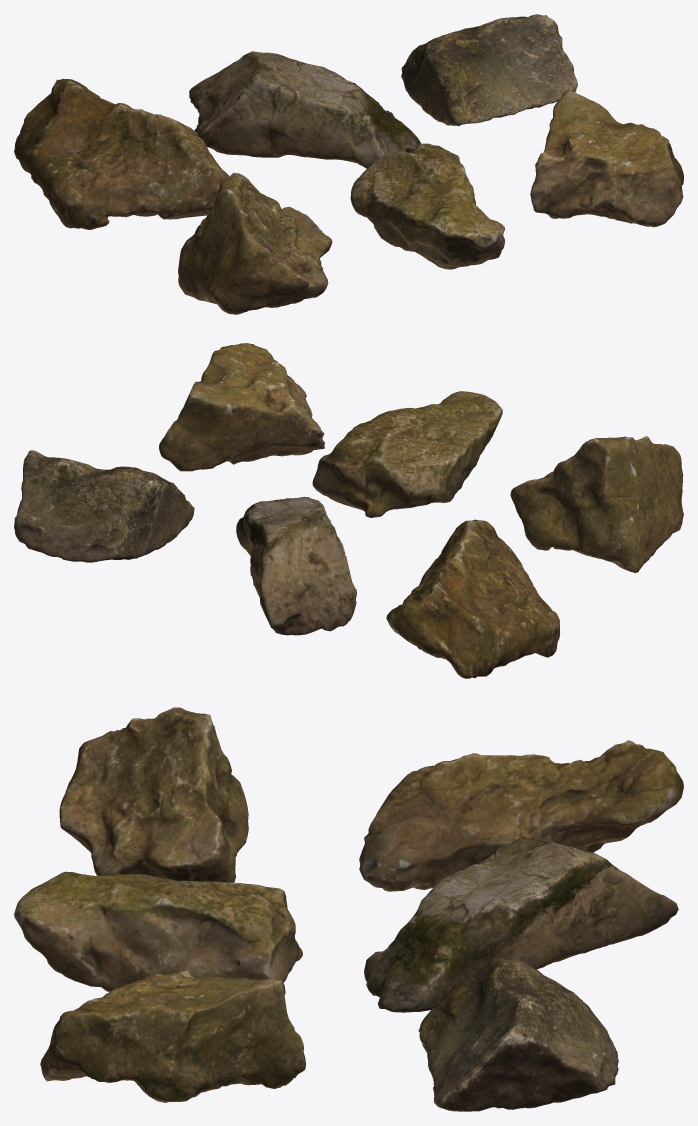
File: rock_moss_set_01.fbx
3 views of the same model, one above another, from view 1: azimuth 30°, elevation 25°; view 2: azimuth 150°, elevation 25°; view 3: azimuth 270°, elevation 25° (orthographic). The views are drawn at different scales.
Visible parts, largest first — view 1: rock_moss_set_01_rock01, rock_moss_set_01_rock02, rock_moss_set_01_rock06, rock_moss_set_01_rock04, rock_moss_set_01_rock03, rock_moss_set_01_rock05; view 2: rock_moss_set_01_rock04, rock_moss_set_01_rock01, rock_moss_set_01_rock05, rock_moss_set_01_rock03, rock_moss_set_01_rock06, rock_moss_set_01_rock02; view 3: rock_moss_set_01_rock01, rock_moss_set_01_rock02, rock_moss_set_01_rock05, rock_moss_set_01_rock04, rock_moss_set_01_rock06, rock_moss_set_01_rock03.
Part boxes in pixels (x1,y1,x2,y2): rock_moss_set_01_rock01: (14,78,229,229); rock_moss_set_01_rock02: (189,51,421,168); rock_moss_set_01_rock06: (530,89,683,227); rock_moss_set_01_rock04: (178,172,332,314); rock_moss_set_01_rock03: (401,14,577,126); rock_moss_set_01_rock05: (350,143,504,269); rock_moss_set_01_rock04: (510,436,683,573); rock_moss_set_01_rock01: (386,519,559,678); rock_moss_set_01_rock05: (312,391,502,517); rock_moss_set_01_rock03: (14,450,194,562); rock_moss_set_01_rock06: (159,343,324,471); rock_moss_set_01_rock02: (236,496,356,635); rock_moss_set_01_rock01: (359,740,683,891); rock_moss_set_01_rock02: (364,836,678,1012); rock_moss_set_01_rock05: (14,871,302,991); rock_moss_set_01_rock04: (59,707,248,882); rock_moss_set_01_rock06: (40,970,305,1102); rock_moss_set_01_rock03: (418,956,618,1111).
Size of the model in its own units: 8.01 by 1.77 by 6.95.
